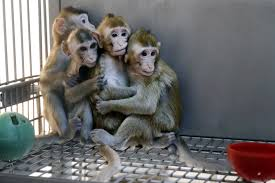monkey: (88, 26, 182, 153), (37, 9, 106, 140)
